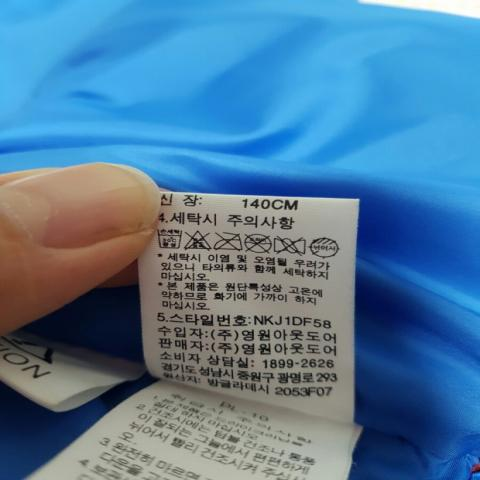30C: (155, 225, 184, 254)
DN_dry_clean: (243, 229, 277, 255)
DN_iron: (211, 225, 247, 253)
DN_wring: (274, 232, 310, 257)
dry_flat_in_shade: (309, 232, 345, 259)
non_chlorine_bleach: (183, 224, 215, 255)
